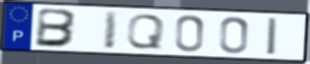0: (218, 15, 251, 55), (173, 14, 206, 53)
B: (33, 7, 80, 49)
I: (102, 10, 120, 50), (266, 16, 279, 57)
Q: (125, 13, 167, 50)
